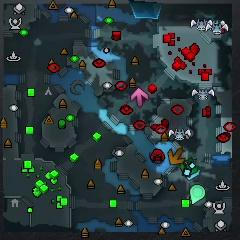p2: (190, 184, 205, 204)
x1: (131, 87, 149, 107)
x3: (187, 169, 201, 180)
x4: (180, 157, 198, 176)
x5: (168, 148, 184, 165)
